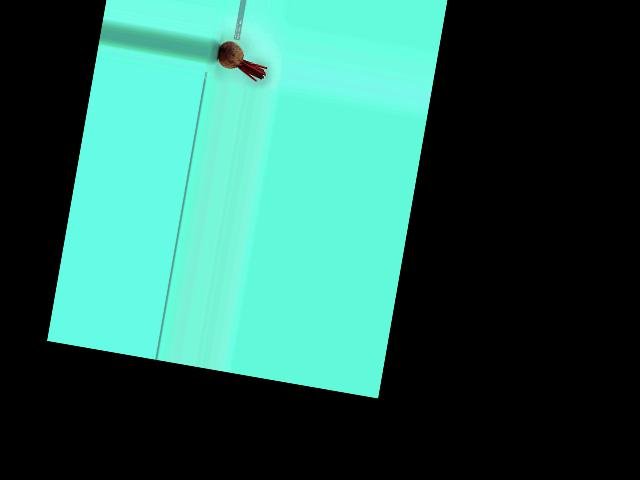beet: (214, 39, 270, 82)
